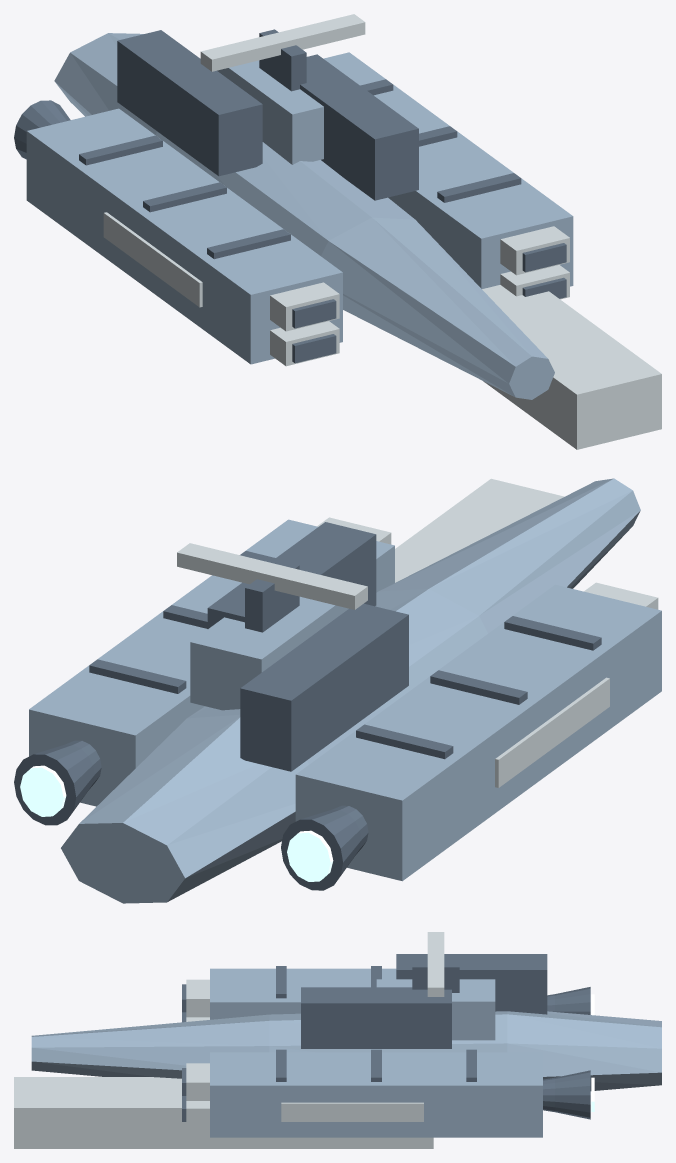
3 renders of one model, top to bottom at view 1: azimuth 30°, elevation 25°; view 2: azimuth 150°, elevation 25°; view 3: azimuth 270°, elevation 25°, orthographic. The views are drawn at different scales.
Bounding box in the file's own units: 4.48 × 2.71 × 10.3.
